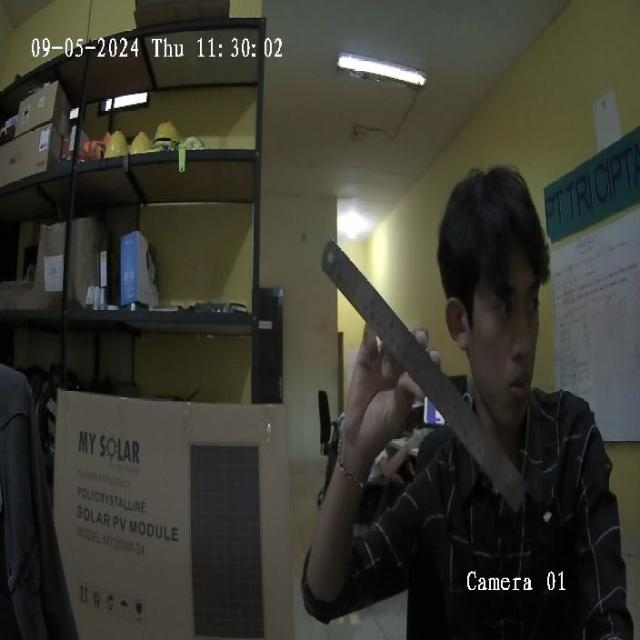Ruler: (321, 239, 528, 511)
